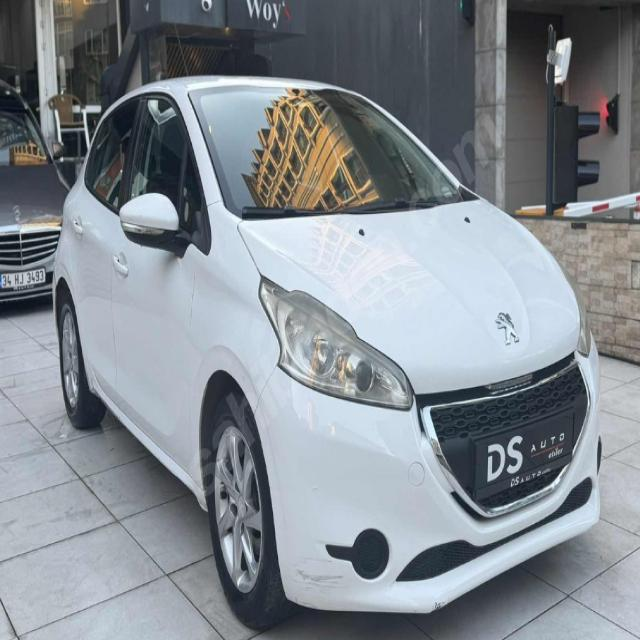pegout: (492, 307, 522, 348)
